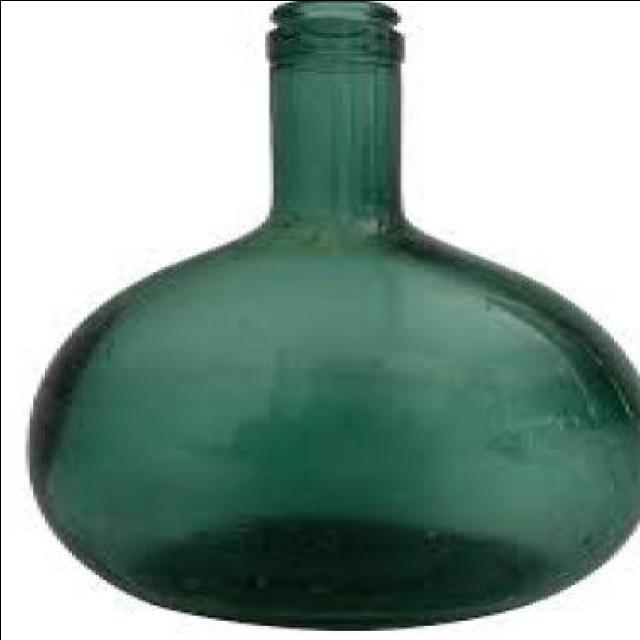kaca: (23, 0, 640, 625)
